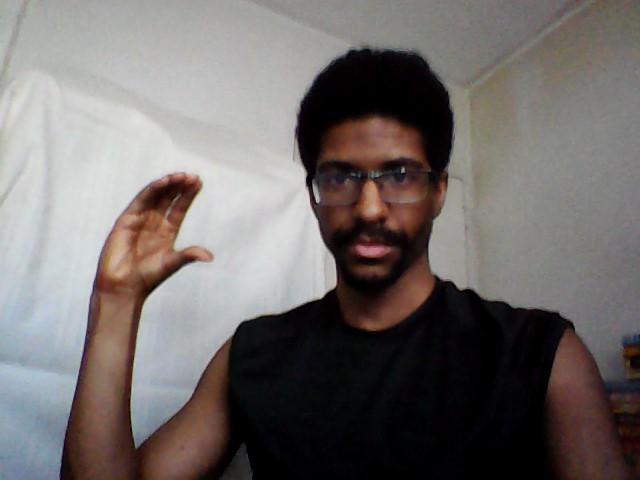c: (94, 169, 219, 316)
